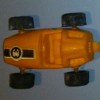naranja: (5, 14, 97, 86)
